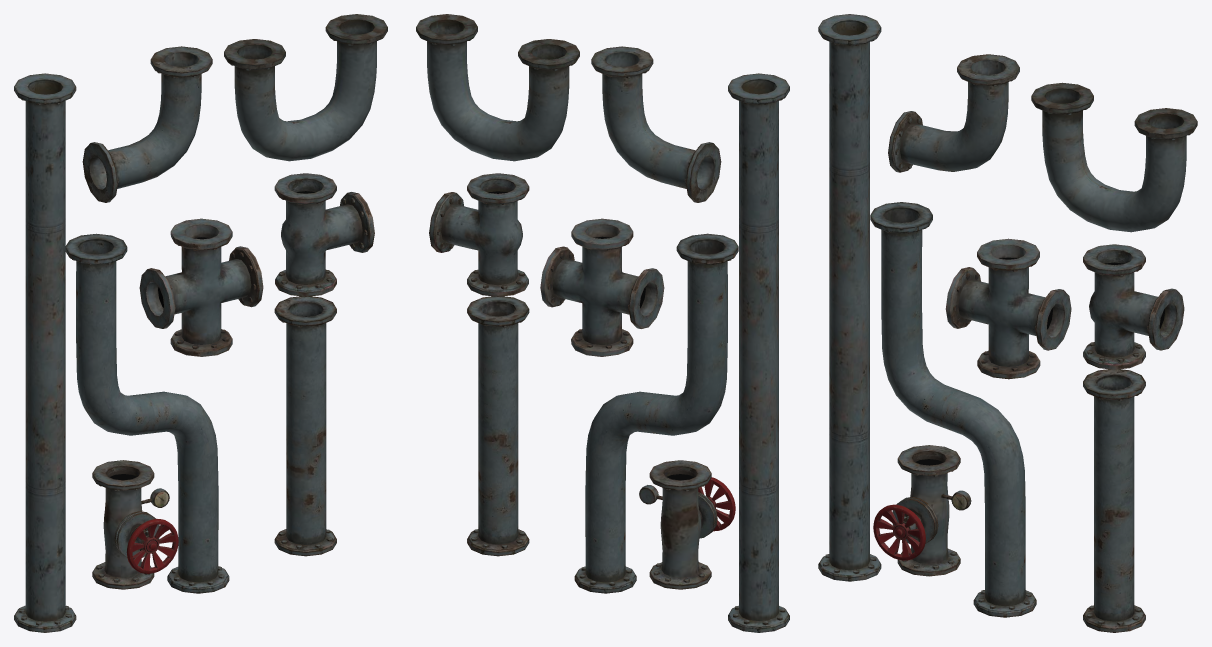
3 views of the same model, side by side, from view 1: azimuth 30°, elevation 25°; view 2: azimuth 150°, elevation 25°; view 3: azimuth 330°, elevation 25° (orthographic).
Parts seen in each view (by area): view 1: modular_industrial_pipes_01_pipe02, modular_industrial_pipes_01_pipe03, modular_industrial_pipes_01_pipe05, modular_industrial_pipes_01_pipe01, modular_industrial_pipes_01_pipe07, modular_industrial_pipes_01_pipe04, modular_industrial_pipes_01_pipe06, modular_industrial_pipes_01_pipe08; view 2: modular_industrial_pipes_01_pipe02, modular_industrial_pipes_01_pipe03, modular_industrial_pipes_01_pipe05, modular_industrial_pipes_01_pipe01, modular_industrial_pipes_01_pipe07, modular_industrial_pipes_01_pipe04, modular_industrial_pipes_01_pipe06, modular_industrial_pipes_01_pipe08; view 3: modular_industrial_pipes_01_pipe02, modular_industrial_pipes_01_pipe03, modular_industrial_pipes_01_pipe05, modular_industrial_pipes_01_pipe01, modular_industrial_pipes_01_pipe07, modular_industrial_pipes_01_pipe06, modular_industrial_pipes_01_pipe04, modular_industrial_pipes_01_pipe08.
Part boxes in pixels (x1,y1,x2,y2): modular_industrial_pipes_01_pipe02: [14, 73, 76, 632]; modular_industrial_pipes_01_pipe03: [65, 233, 229, 593]; modular_industrial_pipes_01_pipe05: [224, 14, 387, 161]; modular_industrial_pipes_01_pipe01: [274, 296, 336, 556]; modular_industrial_pipes_01_pipe07: [139, 218, 263, 356]; modular_industrial_pipes_01_pipe04: [82, 46, 212, 202]; modular_industrial_pipes_01_pipe06: [274, 173, 374, 296]; modular_industrial_pipes_01_pipe08: [92, 460, 178, 589]; modular_industrial_pipes_01_pipe02: [728, 73, 789, 632]; modular_industrial_pipes_01_pipe03: [574, 233, 738, 593]; modular_industrial_pipes_01_pipe05: [416, 14, 579, 161]; modular_industrial_pipes_01_pipe01: [467, 296, 529, 556]; modular_industrial_pipes_01_pipe07: [540, 218, 664, 356]; modular_industrial_pipes_01_pipe04: [591, 46, 721, 202]; modular_industrial_pipes_01_pipe06: [429, 173, 529, 296]; modular_industrial_pipes_01_pipe08: [639, 460, 735, 589]; modular_industrial_pipes_01_pipe02: [818, 14, 881, 581]; modular_industrial_pipes_01_pipe03: [870, 202, 1036, 617]; modular_industrial_pipes_01_pipe05: [1031, 82, 1197, 232]; modular_industrial_pipes_01_pipe01: [1083, 369, 1145, 632]; modular_industrial_pipes_01_pipe07: [945, 238, 1071, 379]; modular_industrial_pipes_01_pipe06: [1083, 244, 1184, 369]; modular_industrial_pipes_01_pipe04: [888, 54, 1019, 172]; modular_industrial_pipes_01_pipe08: [873, 445, 971, 576].
Size of the model in its own units: 1.4 by 1.95 by 0.3076.
Materials: 2 (2 with a texture image).
